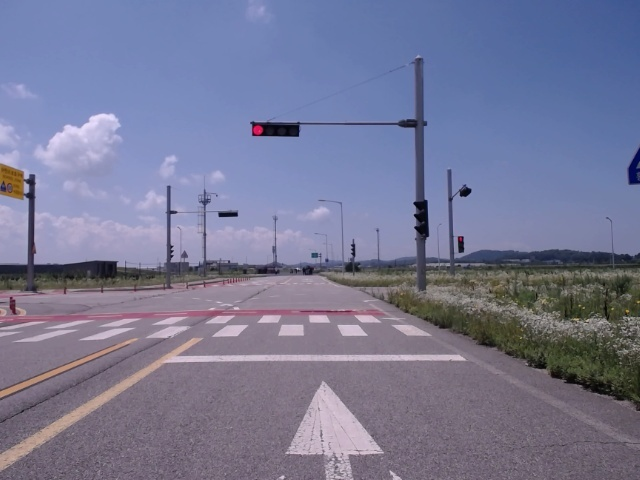red_4: (252, 124, 299, 136)
